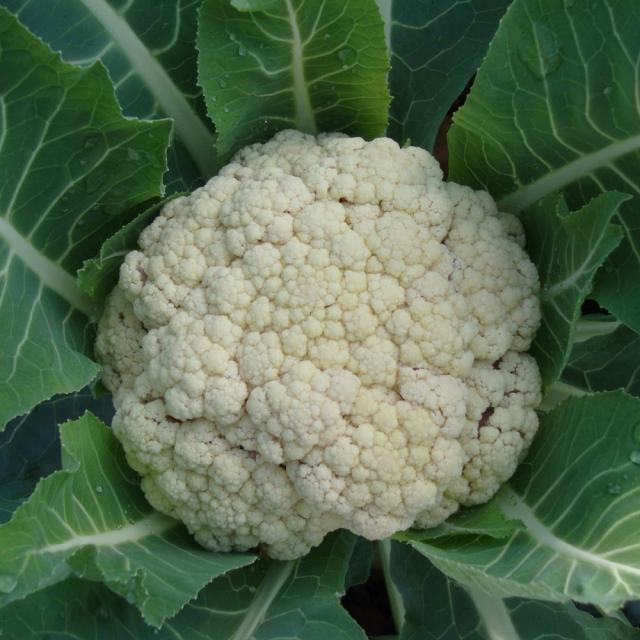Cauliflower head: (27, 109, 633, 582)
